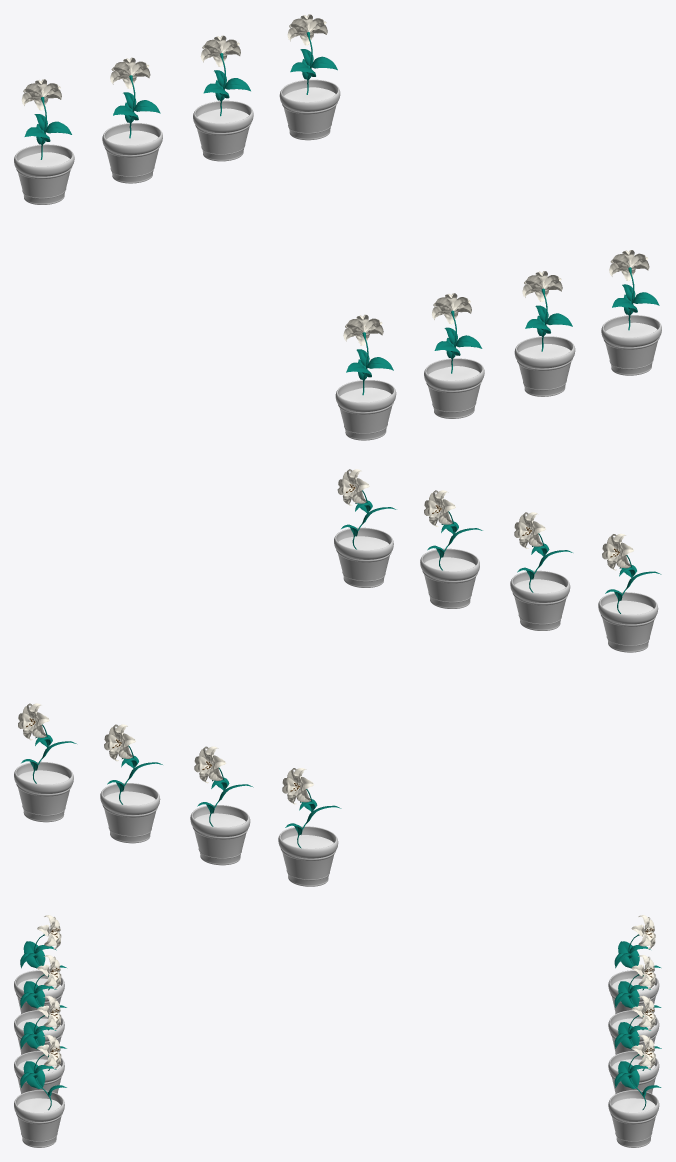
File: Room3-Flower13.glb
3 views of the same model, one above another, from view 1: azimuth 30°, elevation 25°; view 2: azimuth 150°, elevation 25°; view 3: azimuth 270°, elevation 25° (orthographic). The views are drawn at different scales.
Parts seen in each view (by area): view 1: pPlane7_lambert5_0.006, pPlane7_lambert5_0.003, pPlane7_lambert5_0.007, pPlane7_lambert5_0.005, pPlane7_lambert5_0.004, pPlane7_lambert5_0.001, pPlane7_lambert5_0.008, pPlane7_lambert5_0.002; view 2: pPlane7_lambert5_0.007, pPlane7_lambert5_0.003, pPlane7_lambert5_0.008, pPlane7_lambert5_0.004, pPlane7_lambert5_0.002, pPlane7_lambert5_0.005, pPlane7_lambert5_0.001, pPlane7_lambert5_0.006; view 3: pPlane7_lambert5_0.005, pPlane7_lambert5_0.004, pPlane7_lambert5_0.006, pPlane7_lambert5_0.001, pPlane7_lambert5_0.007, pPlane7_lambert5_0.008, pPlane7_lambert5_0.003, pPlane7_lambert5_0.002.
Part boxes in pixels (x1,y1,x2,y2): pPlane7_lambert5_0.006: (193, 35, 253, 161); pPlane7_lambert5_0.003: (335, 314, 396, 440); pPlane7_lambert5_0.007: (102, 57, 162, 183); pPlane7_lambert5_0.005: (279, 14, 340, 140); pPlane7_lambert5_0.004: (601, 250, 661, 375); pPlane7_lambert5_0.001: (514, 271, 575, 396); pPlane7_lambert5_0.008: (14, 79, 74, 204); pPlane7_lambert5_0.002: (424, 293, 484, 418); pPlane7_lambert5_0.007: (190, 746, 253, 865); pPlane7_lambert5_0.003: (598, 533, 661, 652); pPlane7_lambert5_0.008: (278, 768, 341, 886); pPlane7_lambert5_0.004: (334, 469, 396, 587); pPlane7_lambert5_0.002: (510, 512, 572, 630); pPlane7_lambert5_0.005: (14, 703, 76, 822); pPlane7_lambert5_0.001: (420, 490, 482, 608); pPlane7_lambert5_0.006: (100, 724, 162, 843); pPlane7_lambert5_0.005: (608, 1035, 661, 1147); pPlane7_lambert5_0.004: (14, 1035, 66, 1147); pPlane7_lambert5_0.006: (608, 995, 661, 1093); pPlane7_lambert5_0.001: (14, 995, 66, 1093); pPlane7_lambert5_0.007: (608, 955, 661, 1054); pPlane7_lambert5_0.008: (608, 915, 660, 1013); pPlane7_lambert5_0.003: (14, 915, 66, 1013); pPlane7_lambert5_0.002: (14, 955, 66, 1054).
Size of the model in its own units: 6.48 by 2.2 by 12.31.
